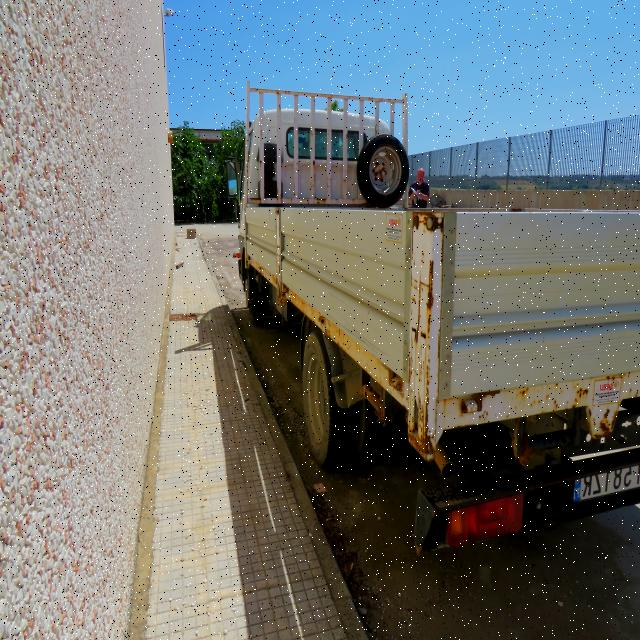truck: (238, 80, 640, 556)
